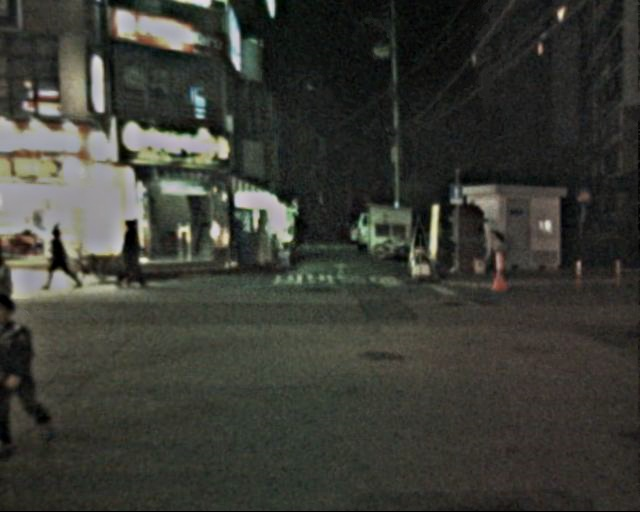person: (45, 224, 82, 293), (118, 218, 148, 289), (476, 220, 503, 289)
